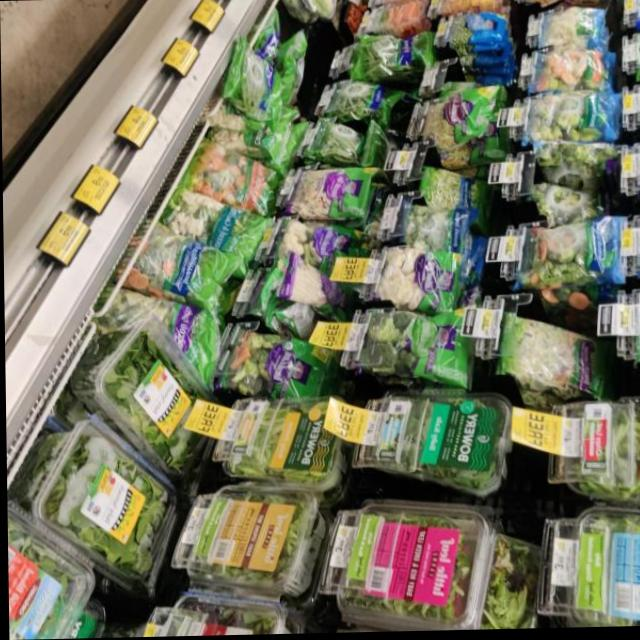Broccoli: (119, 231, 248, 311), (217, 323, 333, 408), (352, 302, 467, 384), (508, 211, 621, 291), (385, 190, 480, 256), (518, 93, 612, 151), (525, 41, 615, 98)
Brussel Sprouts: (410, 75, 495, 150)
Cauliflower: (154, 179, 253, 264), (367, 250, 464, 312), (269, 213, 354, 275)
Lettuce: (208, 381, 347, 488)
Salad: (315, 494, 488, 635), (357, 372, 507, 512), (176, 474, 314, 623), (534, 506, 640, 630), (486, 303, 605, 401), (550, 391, 640, 515)
Spinach: (16, 412, 186, 596), (70, 305, 234, 480)
